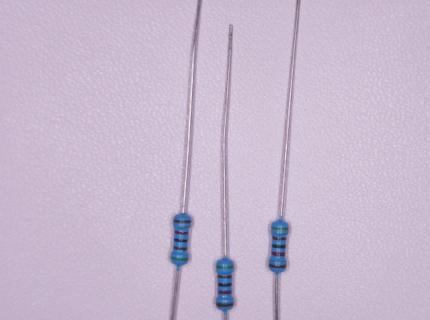Black band: (174, 238, 188, 243), (272, 244, 286, 249), (218, 283, 232, 287)
Brown band: (269, 263, 286, 269), (216, 302, 234, 307), (272, 236, 287, 241), (173, 219, 191, 223), (173, 246, 188, 250), (217, 275, 232, 279)
Green band: (170, 256, 189, 262), (271, 226, 289, 231), (216, 265, 234, 269)
Red band: (271, 251, 285, 257), (174, 230, 188, 235), (218, 290, 232, 294)
